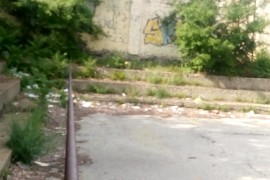trash: (126, 100, 264, 119), (34, 82, 95, 115), (33, 155, 53, 172)
